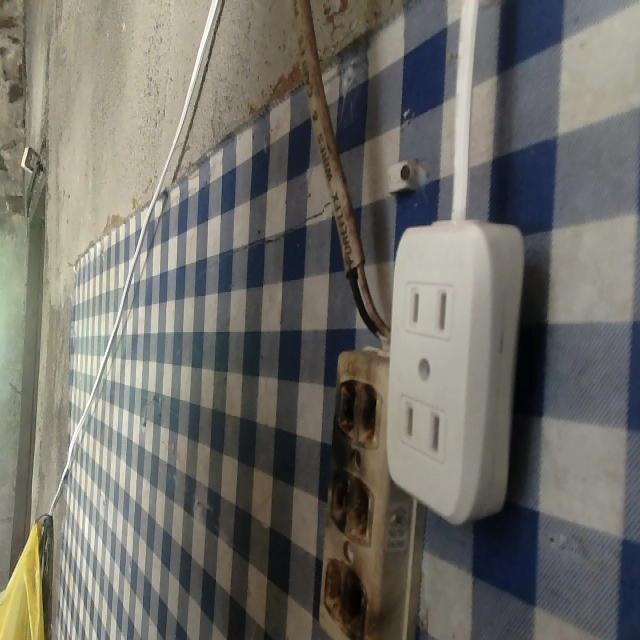-: (326, 467, 386, 553), (317, 554, 373, 638), (334, 376, 384, 461)
